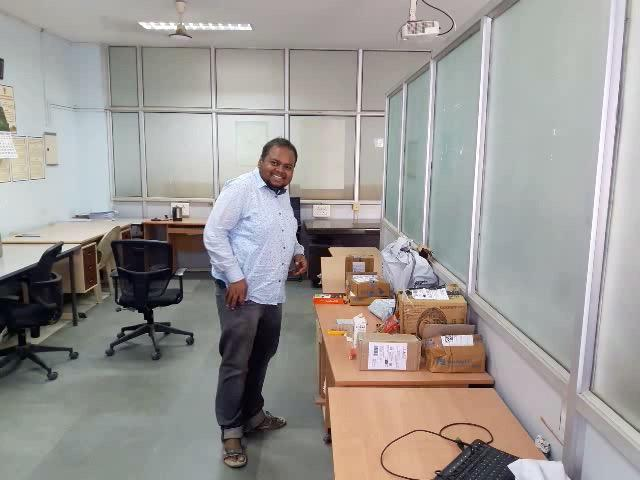shoplifting: (185, 220, 304, 362)
